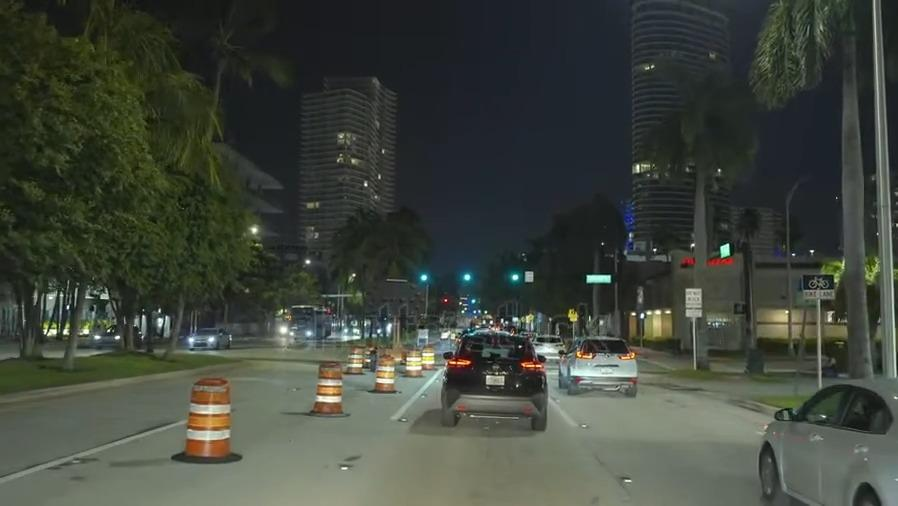bus: (289, 300, 331, 341)
car: (770, 381, 898, 506), (437, 335, 545, 419), (557, 337, 635, 394), (93, 319, 143, 349), (186, 323, 234, 351), (530, 331, 565, 360)
cone: (182, 375, 236, 458), (317, 359, 342, 413), (375, 352, 395, 392), (348, 345, 363, 375), (405, 348, 421, 375), (420, 347, 433, 368)
pedestrian: (643, 350, 729, 369)
traffic light: (457, 266, 476, 291), (505, 269, 523, 289), (416, 269, 431, 287)
wheel: (756, 451, 779, 495)
